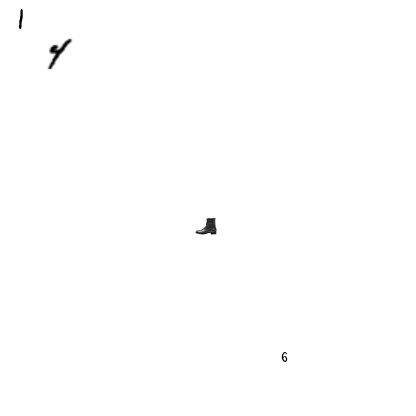1: (6, 5, 34, 33)
4: (36, 30, 78, 72)
6: (277, 350, 291, 364)
Ankle_boot: (195, 215, 217, 237)
